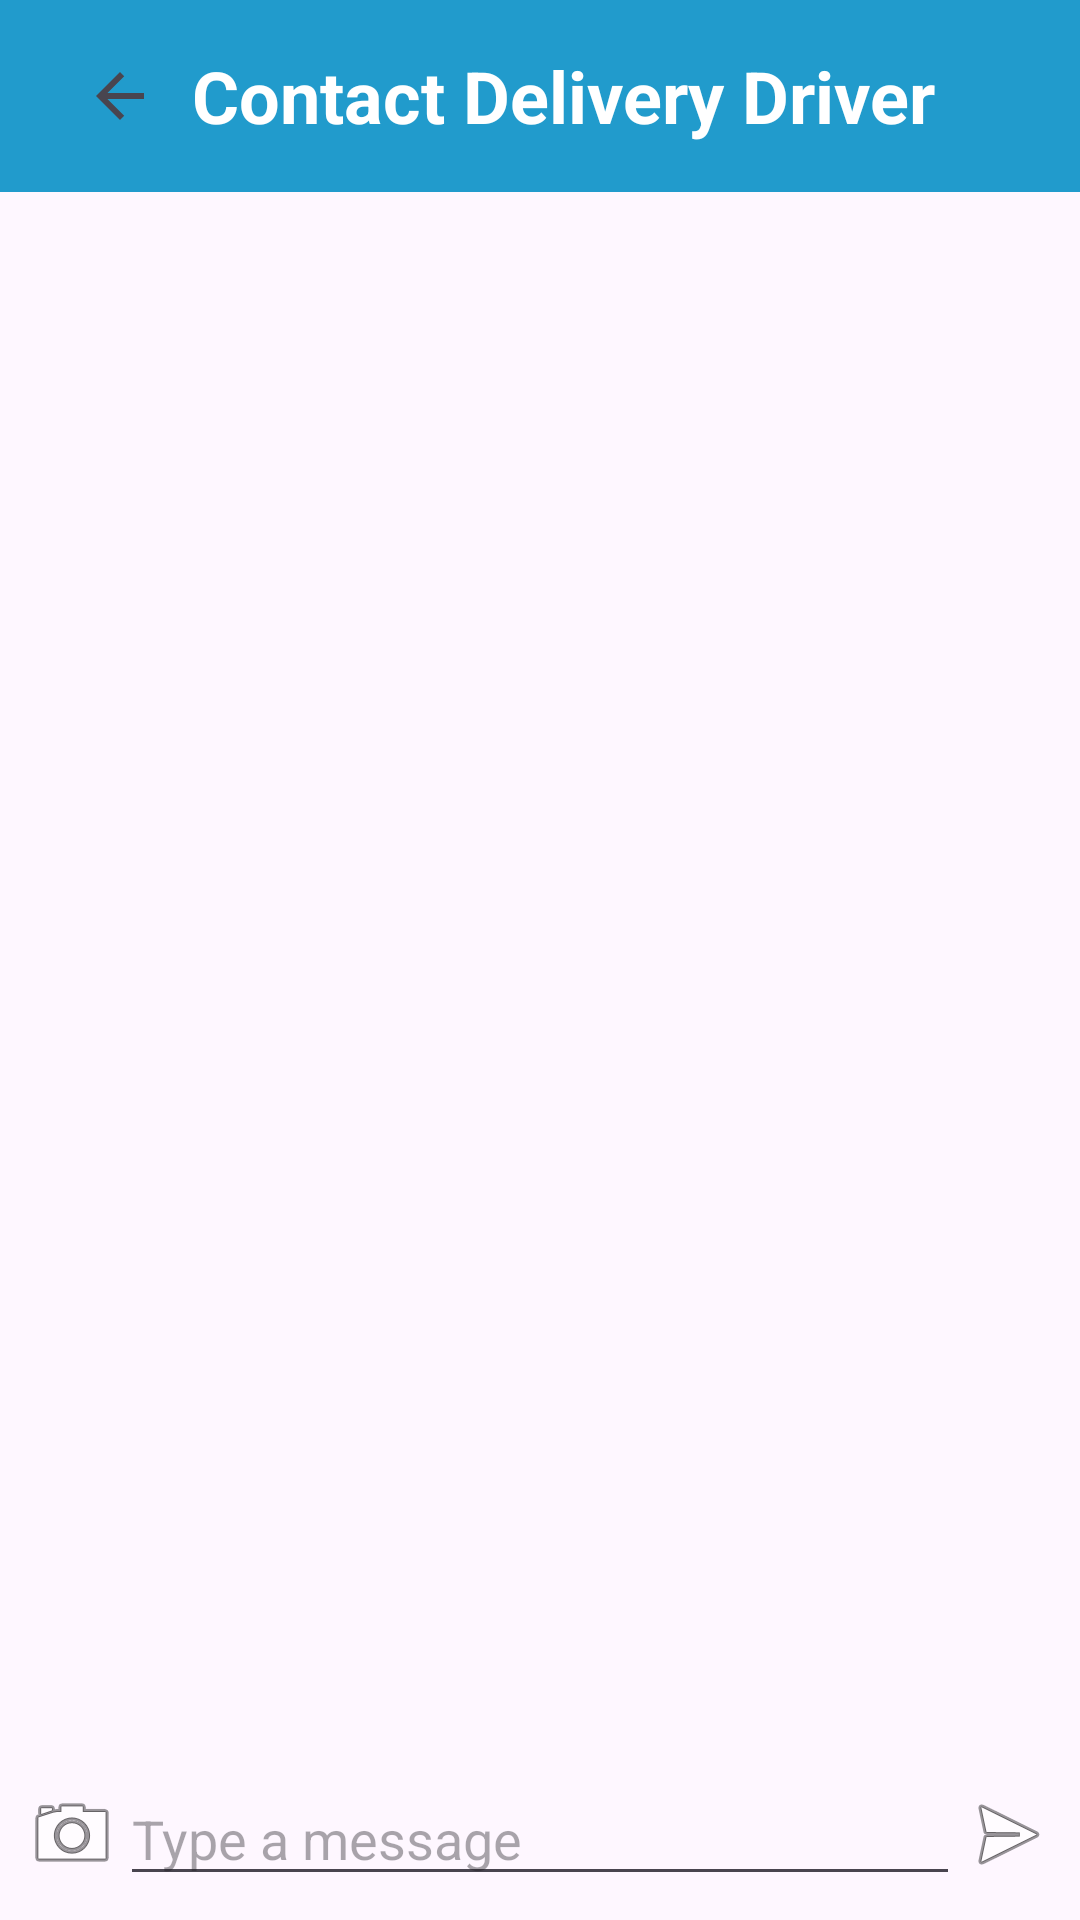

Named icons in this screenshot (1080px x 1920px) and their centers, (x,y):
Back: (120,96)
camera: (72,1832)
send: (1009,1834)
